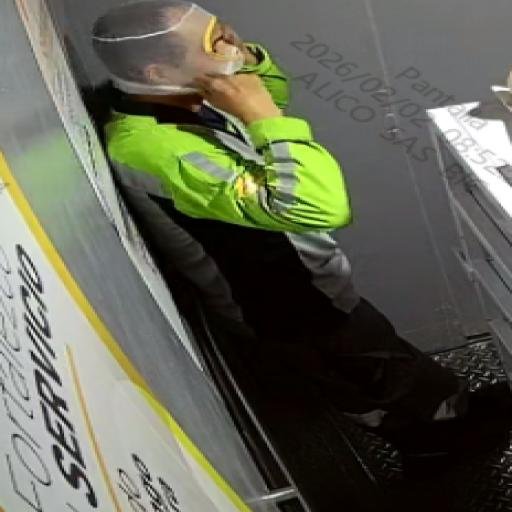person: (50, 2, 512, 502)
